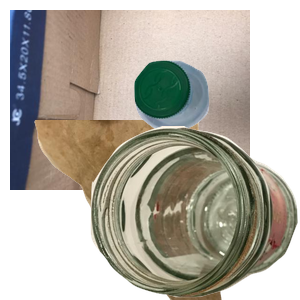cardboard: (10, 10, 250, 190)
glass: (90, 126, 300, 300)
plastic: (132, 58, 300, 182)
trash: (32, 120, 248, 300)
